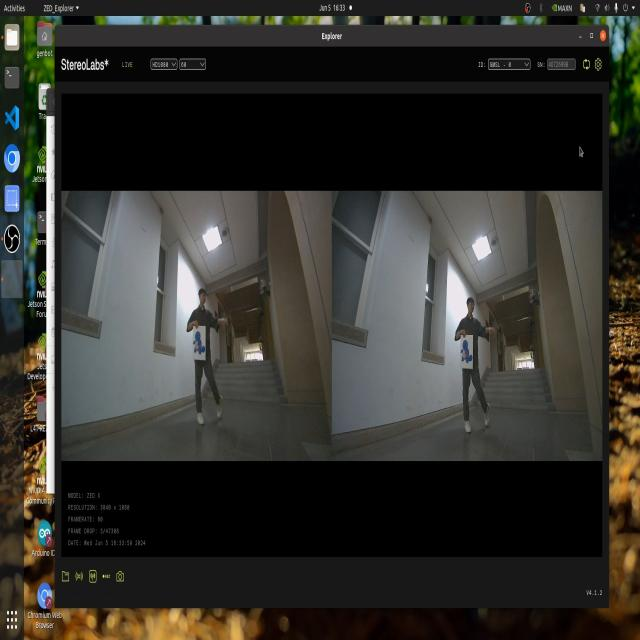blue: (457, 337, 475, 370), (192, 328, 205, 363)
